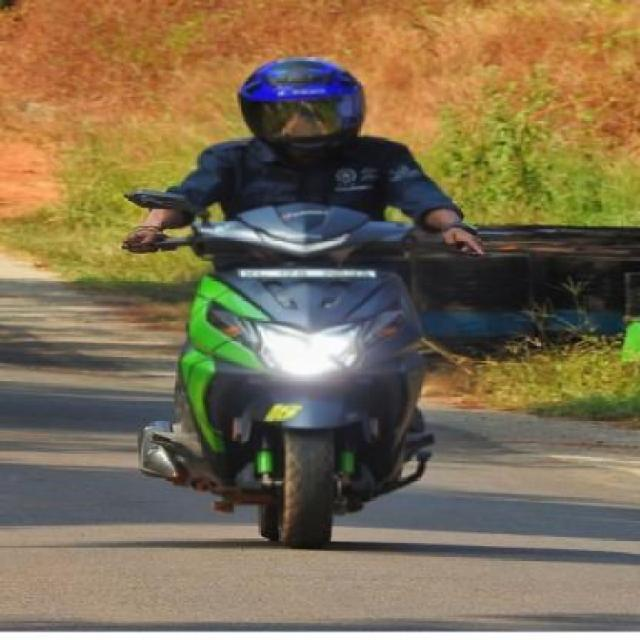helmet: (227, 52, 377, 167)
motorcycle: (114, 36, 488, 564)
